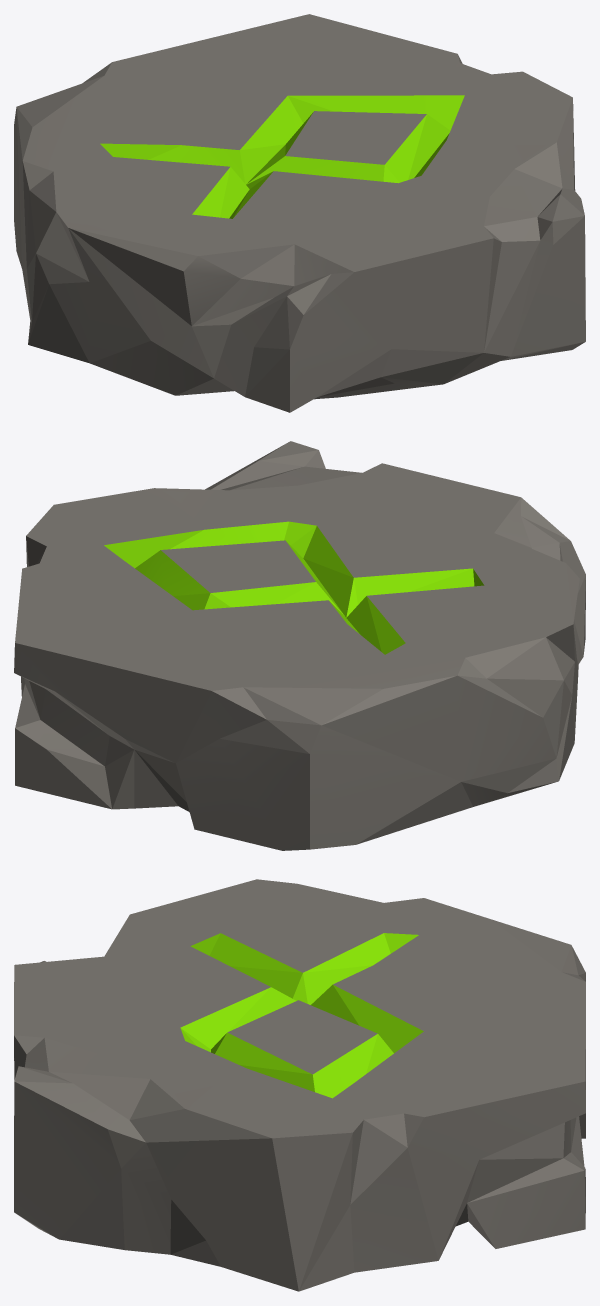
The model's file is SM_Env_Rounded_C_03.glb.
The picture shows the model from 3 angles, top to bottom: view 1: azimuth 30°, elevation 25°; view 2: azimuth 150°, elevation 25°; view 3: azimuth 270°, elevation 25°; orthographic projection. The views are drawn at different scales.
Parts seen in each view (by area): view 1: SM_Env_Rounded_C_03; view 2: SM_Env_Rounded_C_03; view 3: SM_Env_Rounded_C_03.
Boxes of the visible parts, bbox=[...] form: SM_Env_Rounded_C_03: bbox=[14, 14, 585, 412]; SM_Env_Rounded_C_03: bbox=[14, 441, 585, 850]; SM_Env_Rounded_C_03: bbox=[14, 879, 585, 1291].
Size of the model in its own units: 2.7 by 0.687 by 2.41.
Materials: 1 (1 with a texture image).
